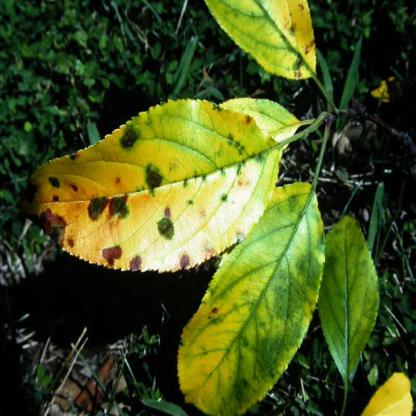apple rust leaf: (18, 101, 291, 268)
